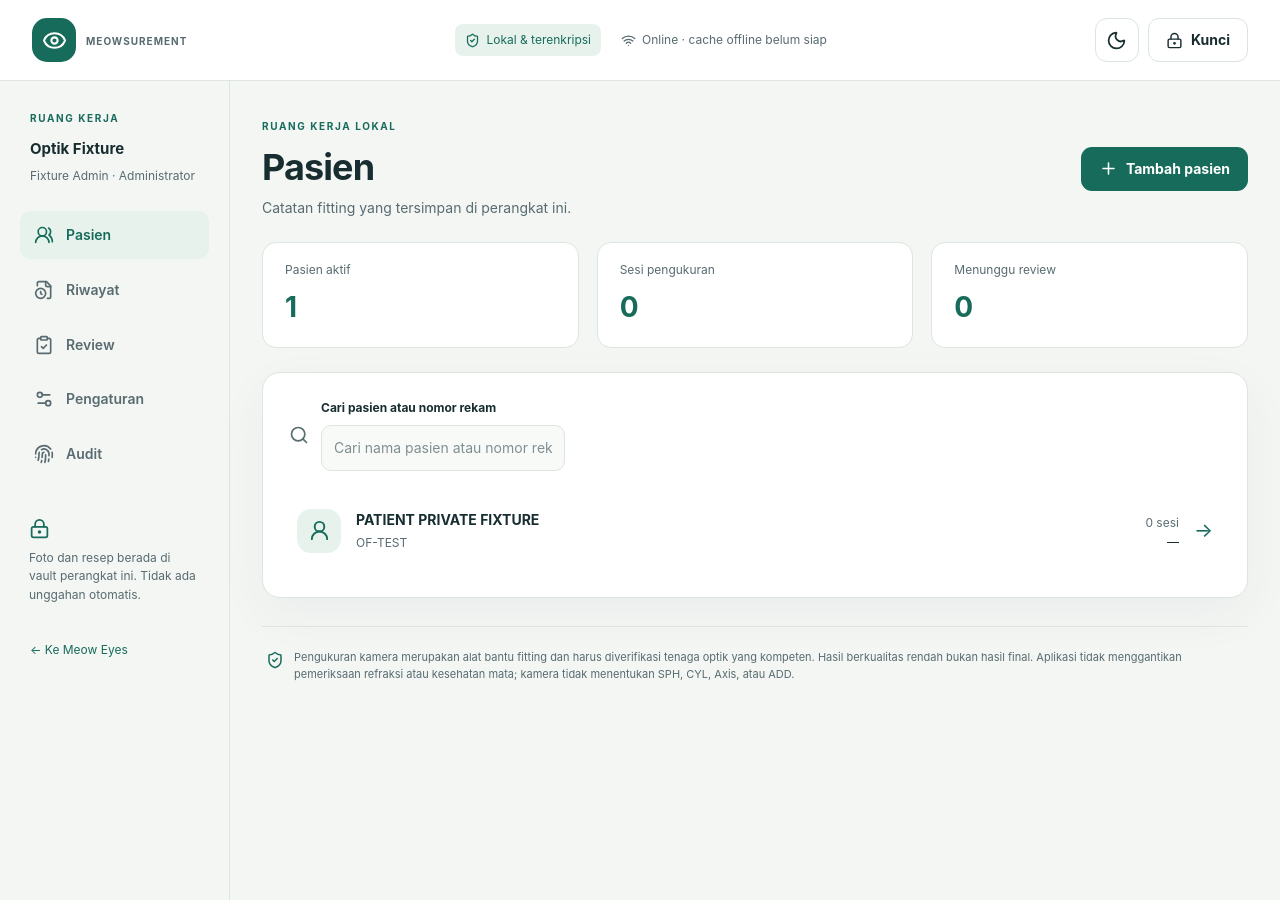
Test case: locking removes patient UI immediately and offline readiness remains explicit
Step 1. Click the button "Kunci" → (1198, 40), box [1148,18,1248,62]
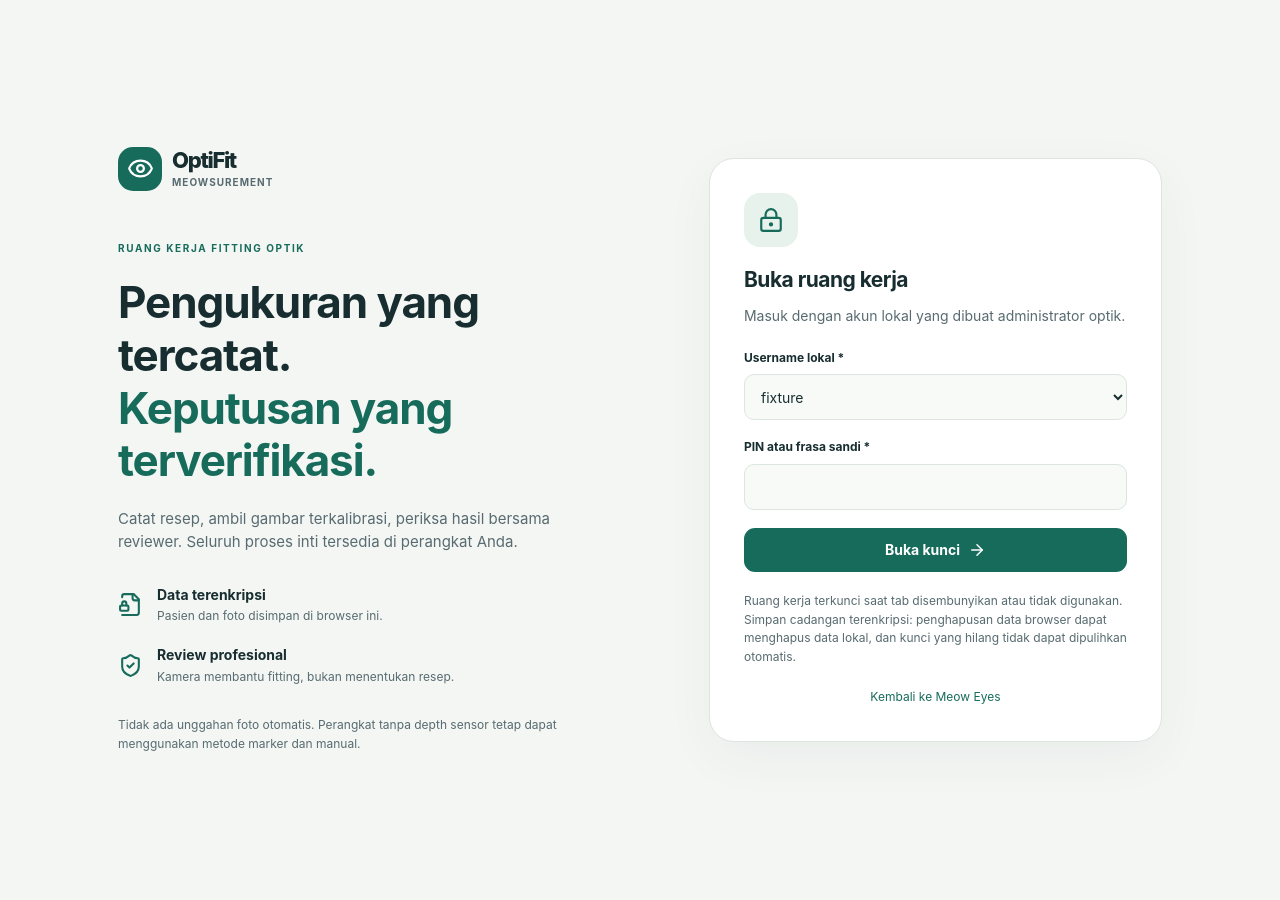
Check: the text "PATIENT PRIVATE FIXTURE" is gone
Check: the text "Buka ruang kerja" is shown, box [744,267,908,292]
